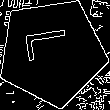L_E: (25, 33, 80, 71)
